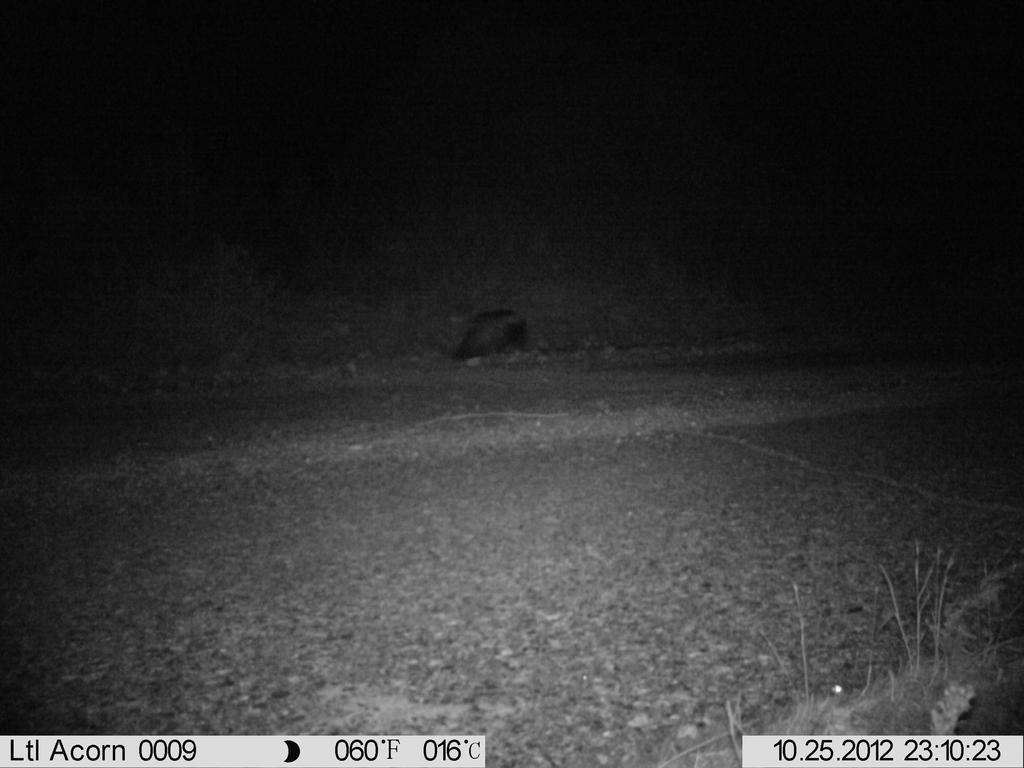skunk: (453, 305, 537, 369)
